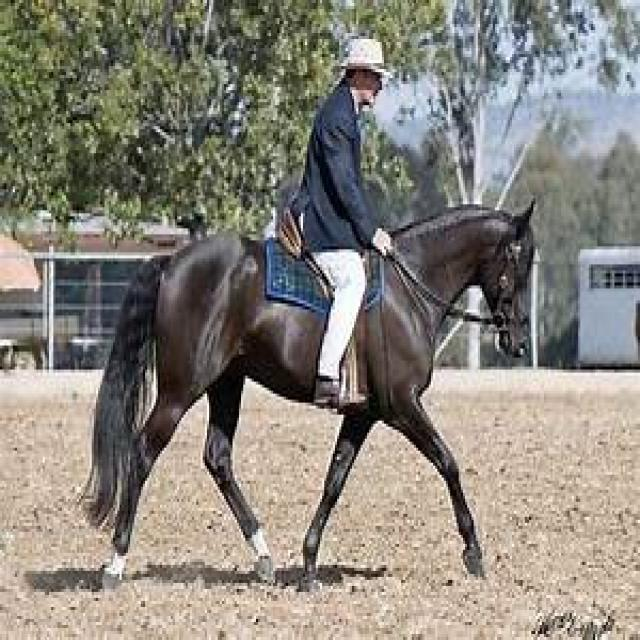animal: (72, 195, 538, 592)
